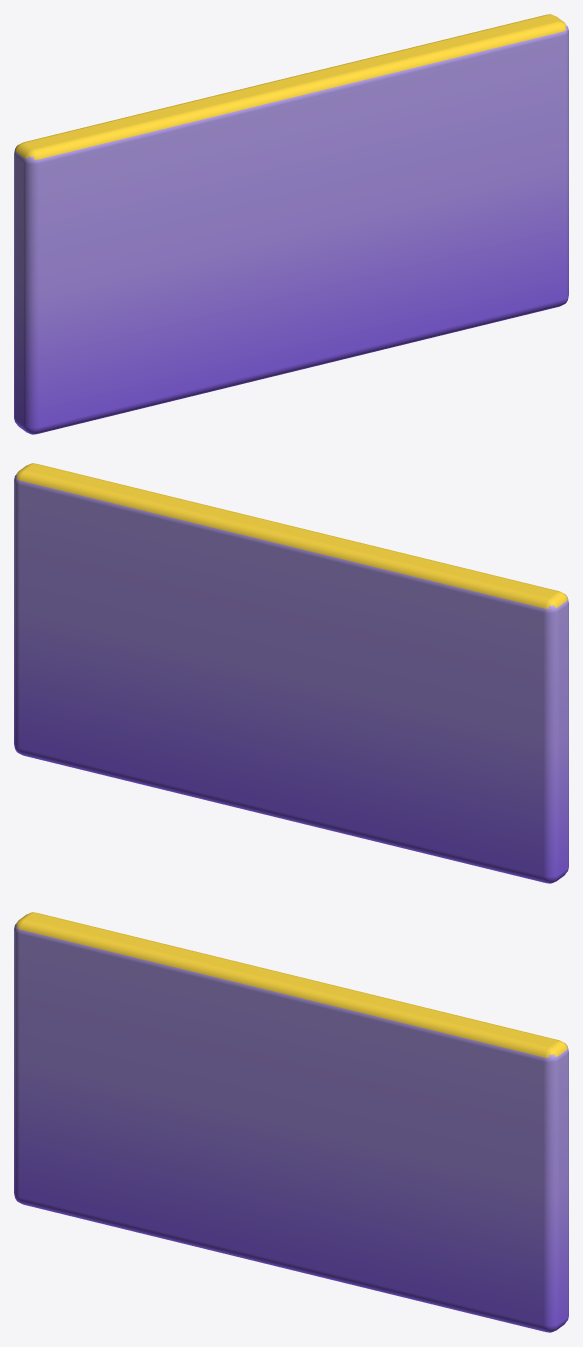
File: wall_8x4.glb
The picture shows the model from 3 angles, top to bottom: view 1: azimuth 30°, elevation 25°; view 2: azimuth 150°, elevation 25°; view 3: azimuth 330°, elevation 25°; orthographic projection.
Visible parts, largest first — view 1: wall_8x4; view 2: wall_8x4; view 3: wall_8x4.
Boxes of the visible parts, box(x1,y1,x2,y2) form: wall_8x4: box(14, 14, 568, 434); wall_8x4: box(14, 463, 568, 883); wall_8x4: box(14, 912, 568, 1332).
Bounding box in the file's own units: 8 × 4 × 0.5.
1 material, 1 textured.
